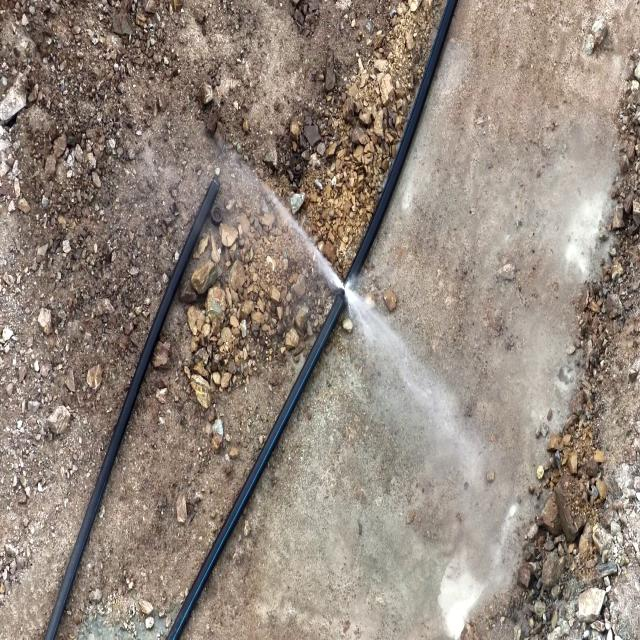leak: (246, 167, 405, 370)
